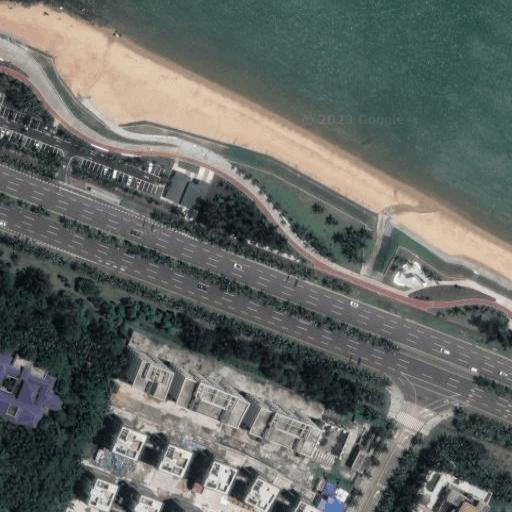building: (162, 361, 236, 411), (238, 392, 309, 441), (119, 346, 162, 385), (311, 423, 349, 467), (342, 427, 377, 473), (433, 481, 481, 512), (88, 440, 129, 475), (235, 465, 270, 501), (148, 431, 183, 465), (100, 412, 132, 444), (180, 178, 211, 211), (75, 465, 106, 497), (121, 480, 151, 512), (194, 445, 224, 476), (13, 355, 49, 379), (278, 488, 313, 512), (165, 171, 190, 203), (320, 495, 347, 512), (165, 497, 192, 512), (322, 482, 340, 498), (335, 488, 348, 502), (315, 498, 326, 511)
